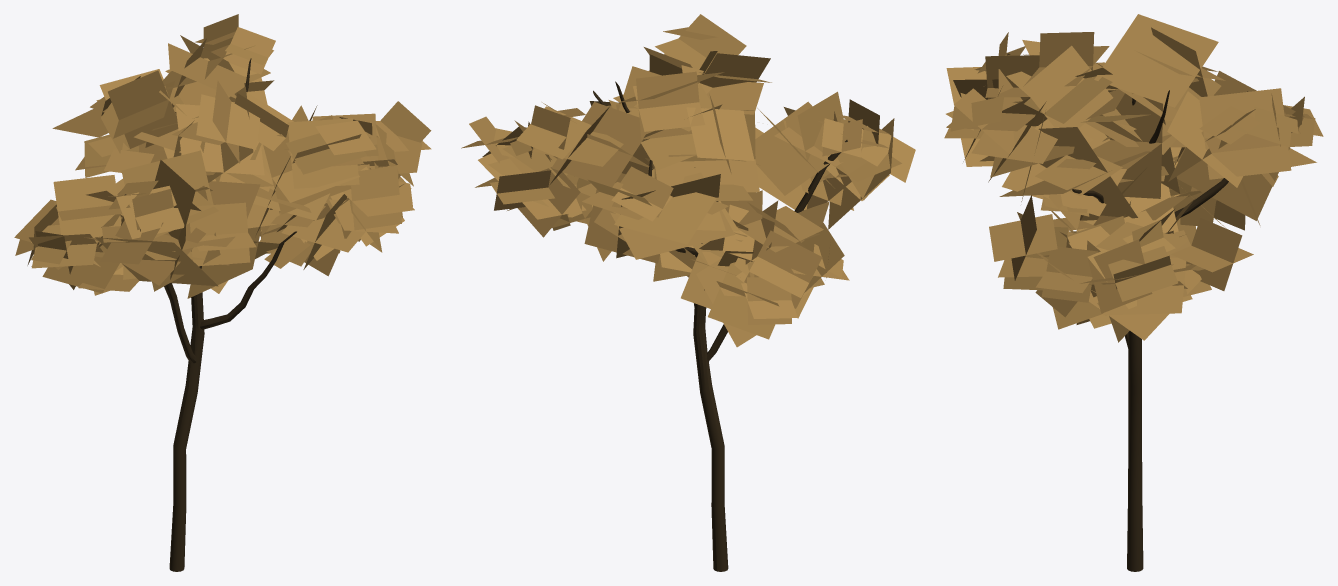
The model's file is Oak small LOD 0.fbx.
3 renders of one model, left to right at view 1: azimuth 30°, elevation 25°; view 2: azimuth 150°, elevation 25°; view 3: azimuth 270°, elevation 25°, orthographic. The views are drawn at different scales.
Parts seen in each view (by area): view 1: Small_Oak_LOD_0; view 2: Small_Oak_LOD_0; view 3: Small_Oak_LOD_0.
Boxes of the visible parts, x1=… form: Small_Oak_LOD_0: x1=14, y1=14, x2=431, y2=571; Small_Oak_LOD_0: x1=461, y1=14, x2=915, y2=571; Small_Oak_LOD_0: x1=944, y1=14, x2=1323, y2=571.
Size of the model in its own units: 5.71 by 7.06 by 4.4.
